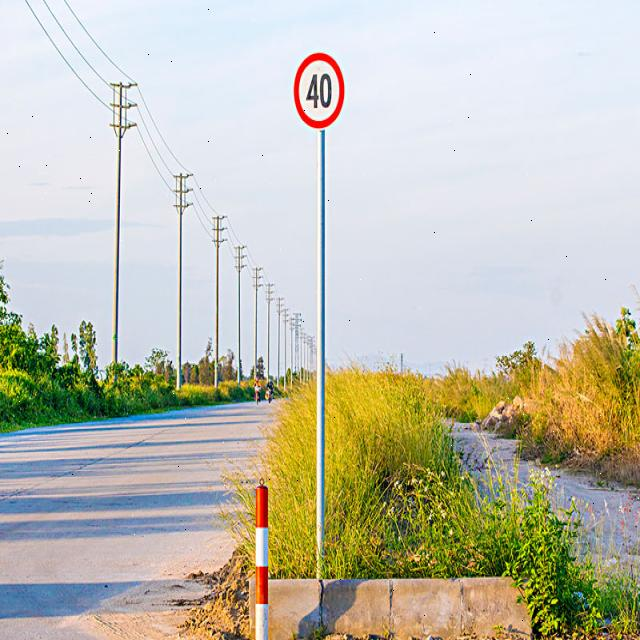speed limit 40: (292, 50, 344, 127)
